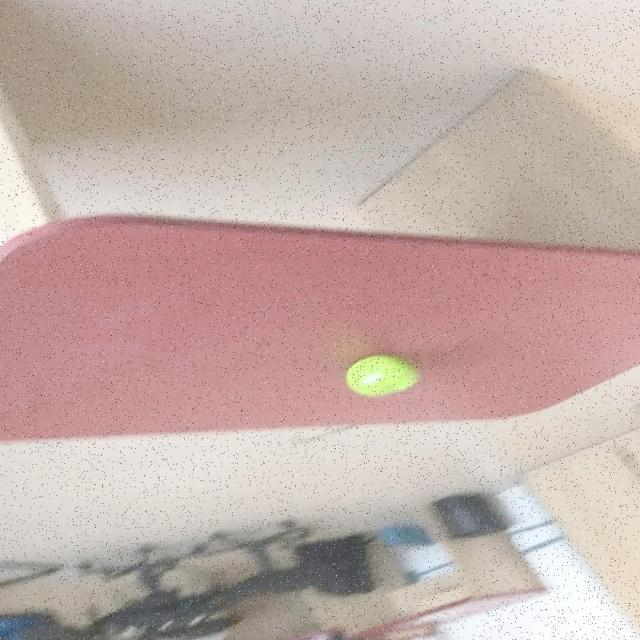Apple: (344, 353, 418, 398)
